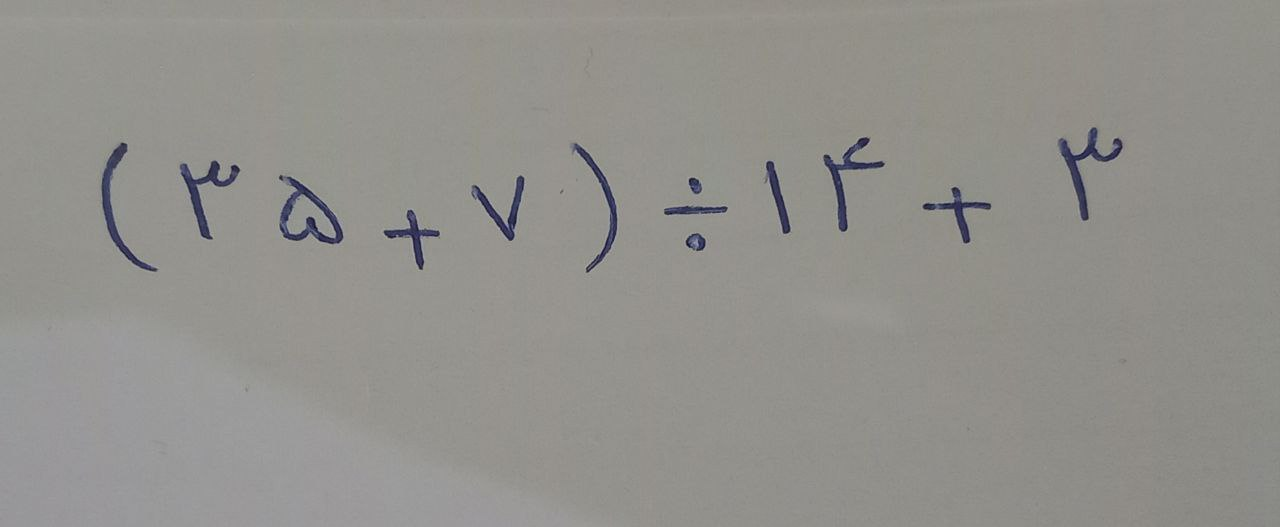character: (101, 144, 167, 272), (570, 141, 621, 282), (821, 134, 891, 233), (1058, 128, 1127, 217), (658, 176, 727, 254), (277, 176, 348, 248), (178, 160, 240, 240), (469, 176, 541, 232), (922, 186, 994, 242), (384, 209, 437, 270), (767, 162, 797, 238)
